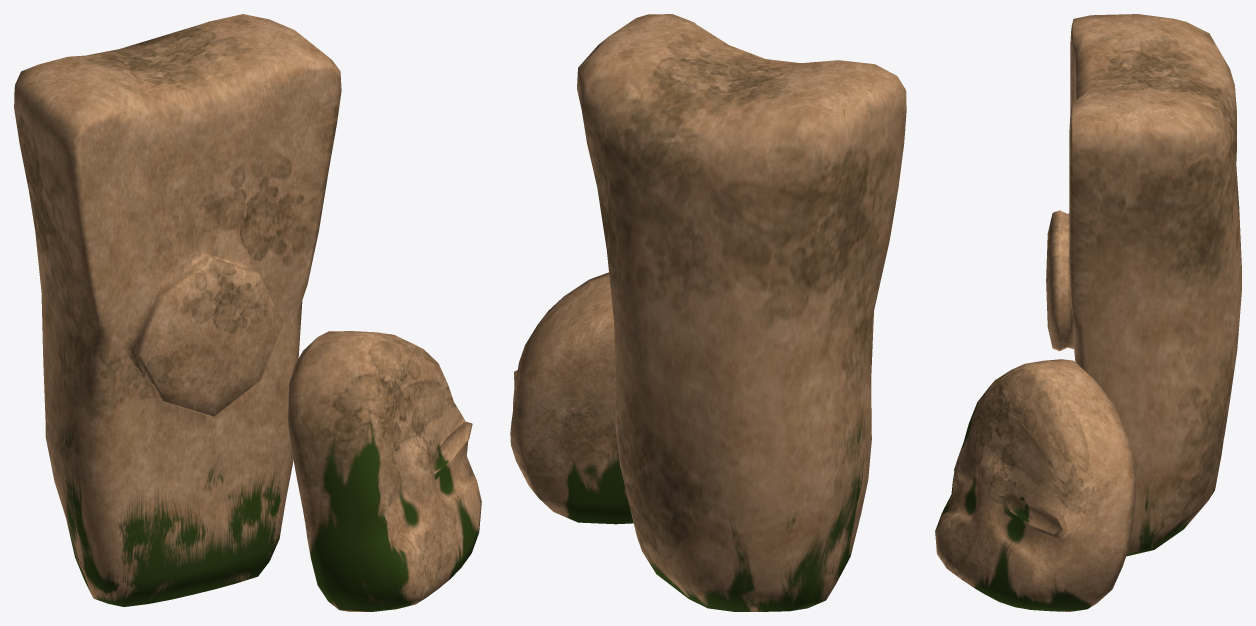
The model's file is piedra_guerrero_roto.fbx.
3 views of the same model, side by side, from view 1: azimuth 30°, elevation 25°; view 2: azimuth 150°, elevation 25°; view 3: azimuth 270°, elevation 25° (orthographic). The views are drawn at different scales.
Visible parts, largest first — view 1: DolmenyGuerreroPiedra:CARAA1:polySurface1; view 2: DolmenyGuerreroPiedra:CARAA1:polySurface1; view 3: DolmenyGuerreroPiedra:CARAA1:polySurface1.
Part boxes in pixels (<box>): DolmenyGuerreroPiedra:CARAA1:polySurface1: <box>14,14,481,611</box>; DolmenyGuerreroPiedra:CARAA1:polySurface1: <box>510,14,906,611</box>; DolmenyGuerreroPiedra:CARAA1:polySurface1: <box>935,14,1241,611</box>.
Bounding box in the file's own units: 2.19 × 2.82 × 1.66.
